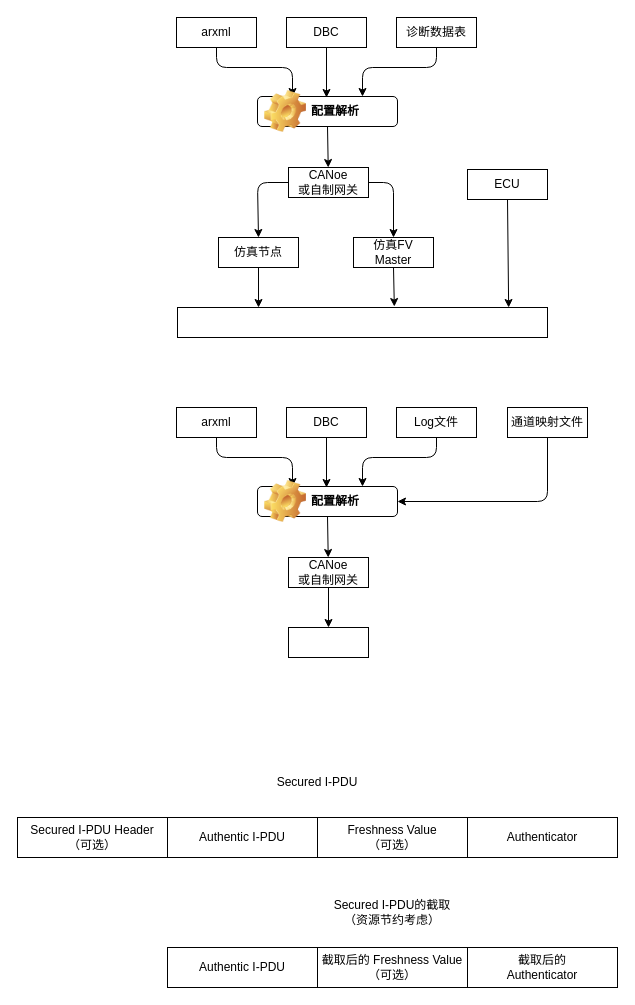
Some shapes in this 635 by 1005 pixel diagram are drawn without their labels. Here are the shapes that lost their labels. From the top down, the centre of each, then its label:
At (x=362, y=322): "通信总线（CANFD/ETH）".
At (x=328, y=642): "测试报告".
